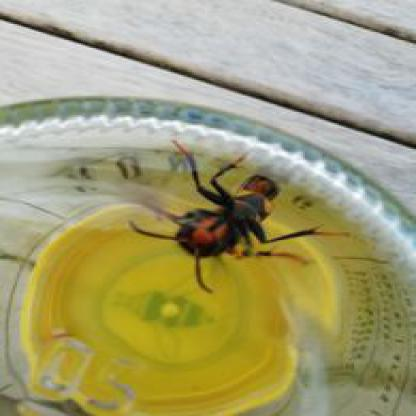Asian Hornet: (126, 139, 351, 294)
